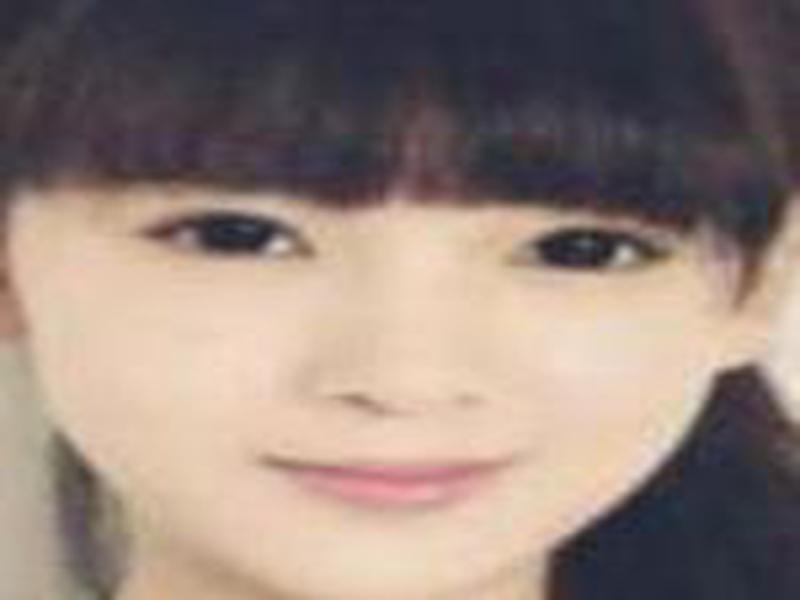without_mask: (17, 114, 766, 595)
